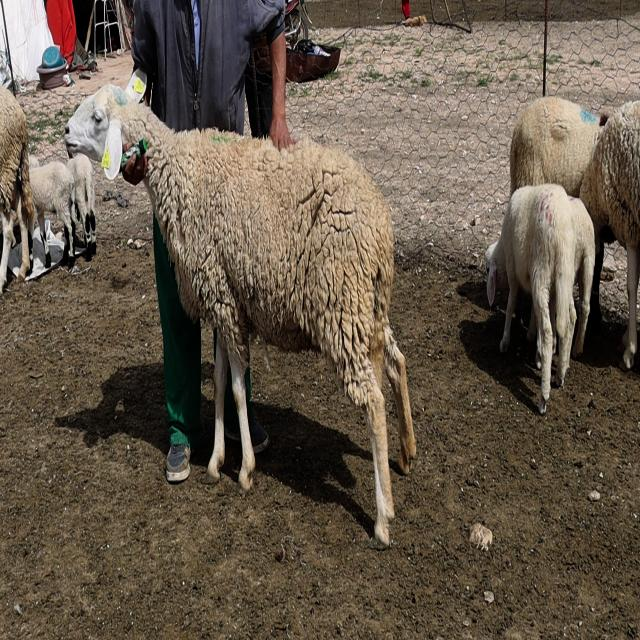Score_2: (65, 70, 416, 549)
